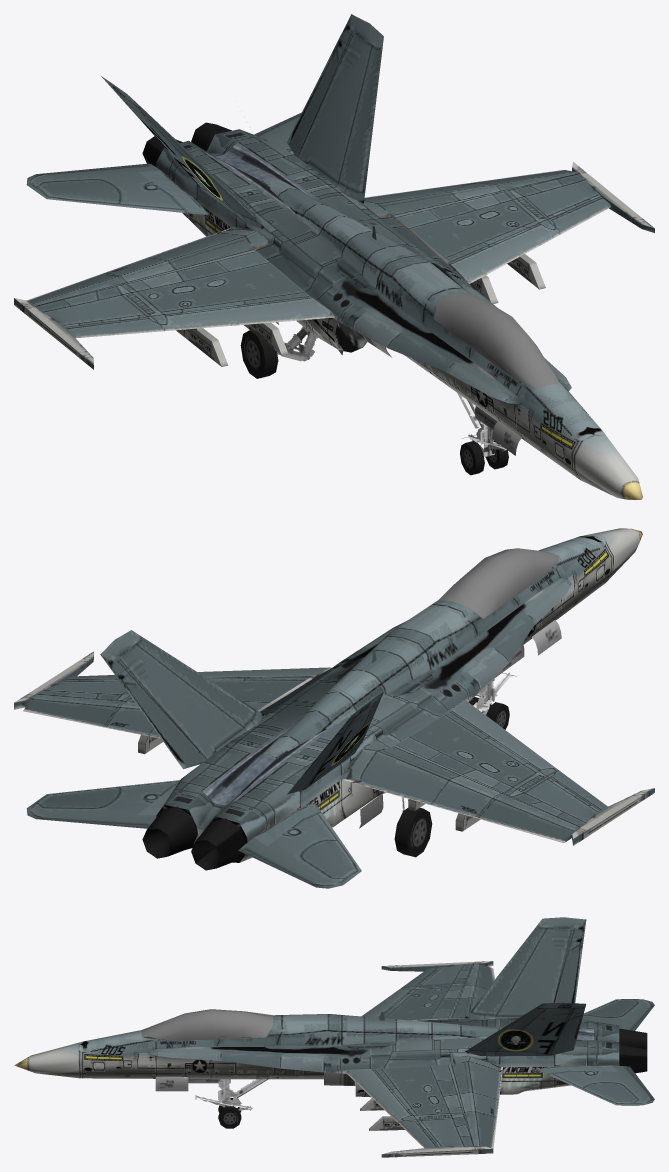
3 views of the same model, one above another, from view 1: azimuth 30°, elevation 25°; view 2: azimuth 150°, elevation 25°; view 3: azimuth 270°, elevation 25° (orthographic). The views are drawn at different scales.
Visible parts, largest first — view 1: Object14; view 2: Object14; view 3: Object14.
Part boxes in pixels (left/top/right/bottom): Object14: left=14, top=14, right=654, bottom=499; Object14: left=14, top=528, right=654, bottom=888; Object14: left=14, top=917, right=654, bottom=1157.
Bounding box in the file's own units: 100 × 40.68 × 145.
Materials: 3 (2 with a texture image).
